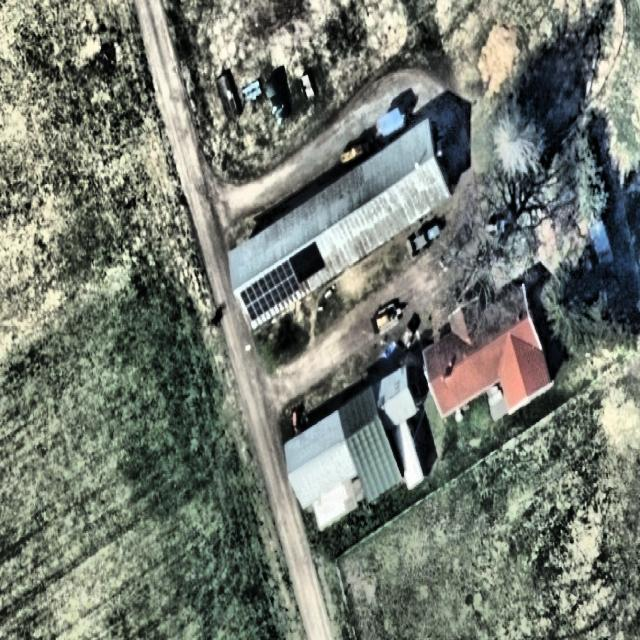roof_pv: (239, 259, 298, 318), (288, 245, 327, 282)
